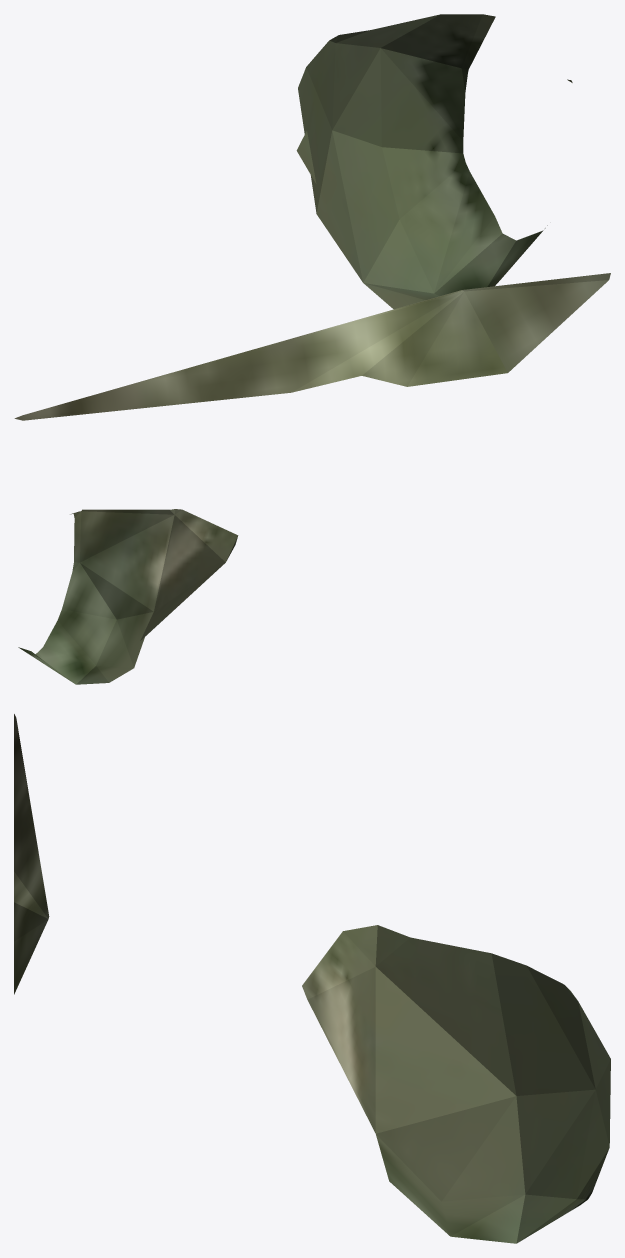
The picture shows the model from 3 angles, top to bottom: view 1: azimuth 30°, elevation 25°; view 2: azimuth 150°, elevation 25°; view 3: azimuth 270°, elevation 25°; orthographic projection. The views are drawn at different scales.
Size of the model in its own units: 1.87 by 0.582 by 1.4.
Materials: 1 (1 with a texture image).
